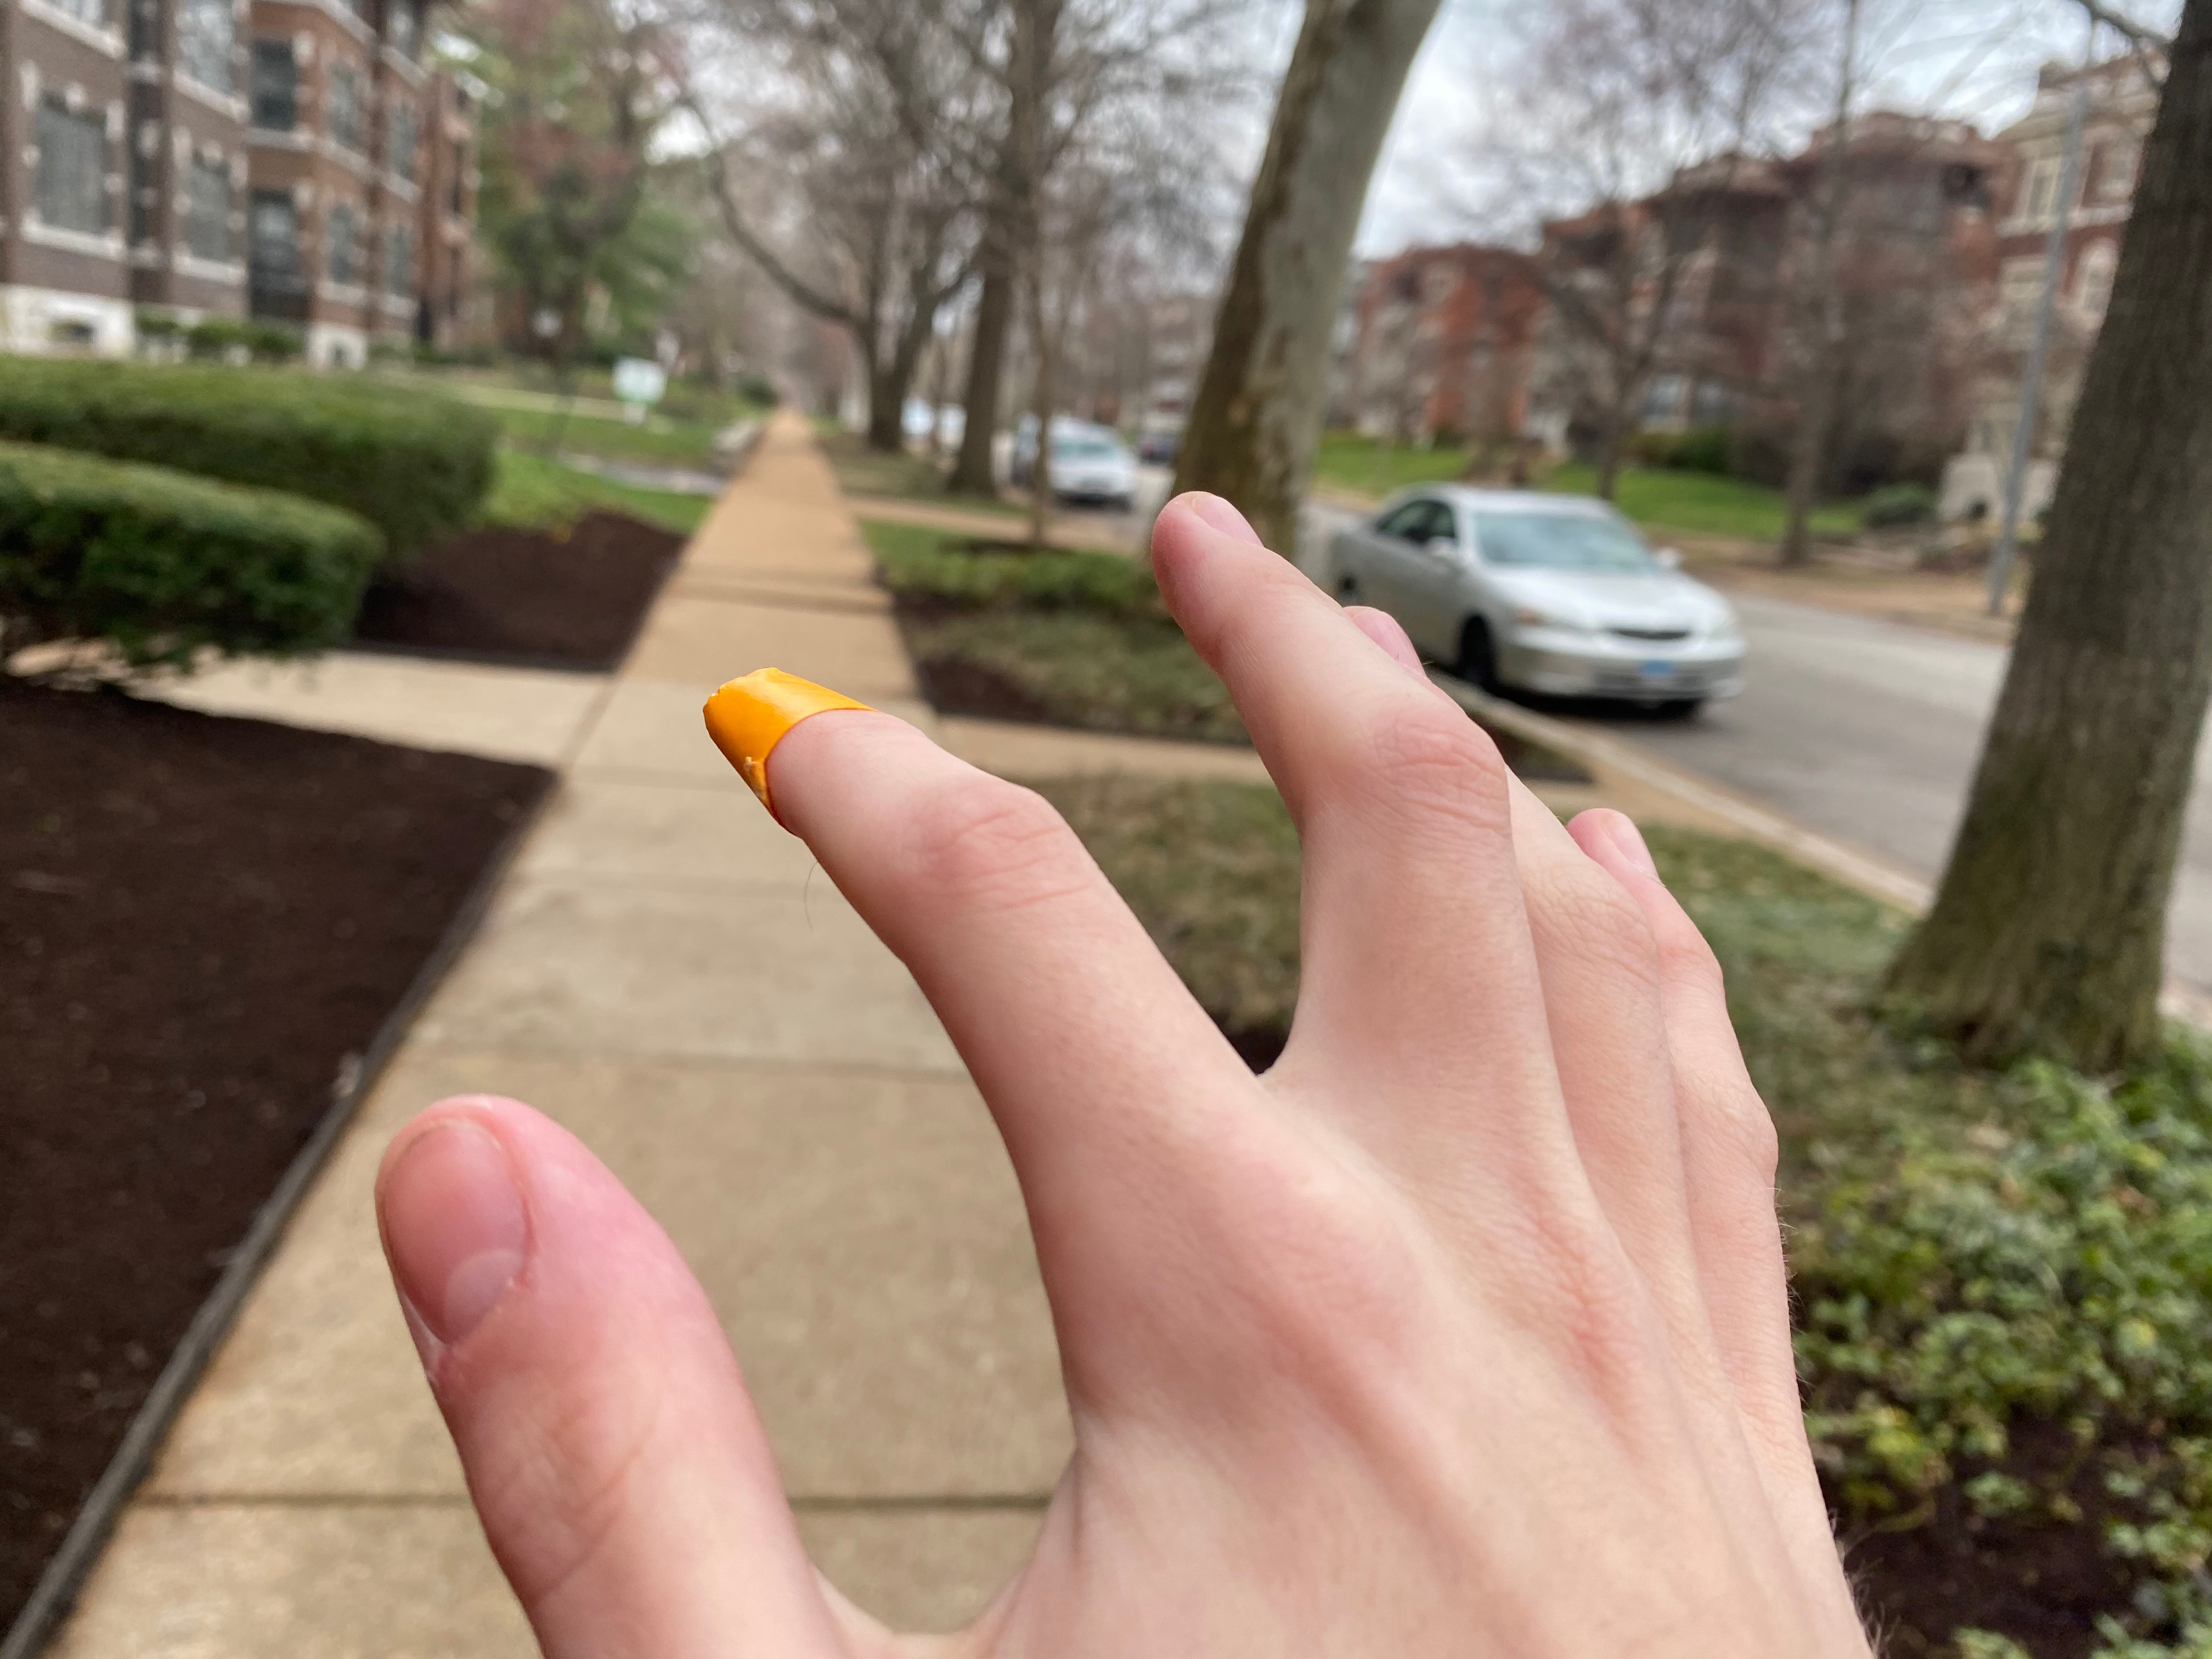fingertip: (686, 662, 894, 823)
